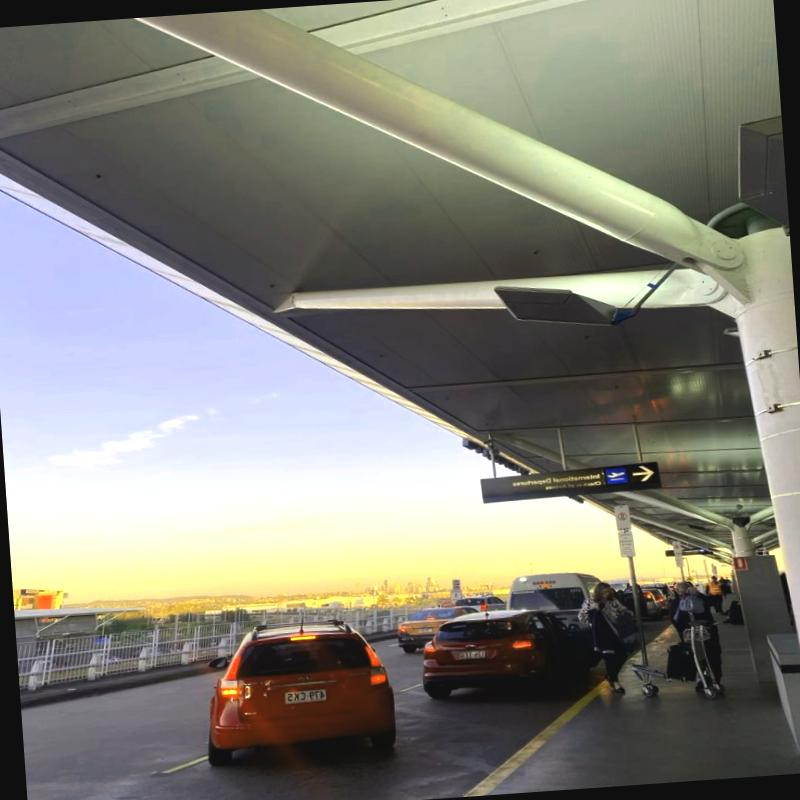license plate on a car: (285, 689, 325, 704), (458, 650, 485, 659), (415, 627, 430, 633)
